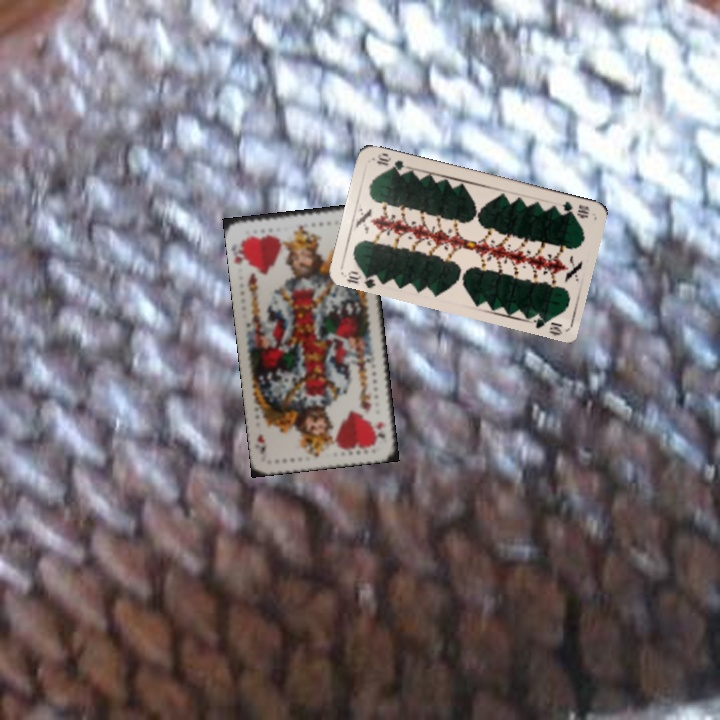G10: (342, 266, 382, 290), (559, 197, 592, 220)
HK: (371, 417, 390, 445), (230, 248, 251, 268)
